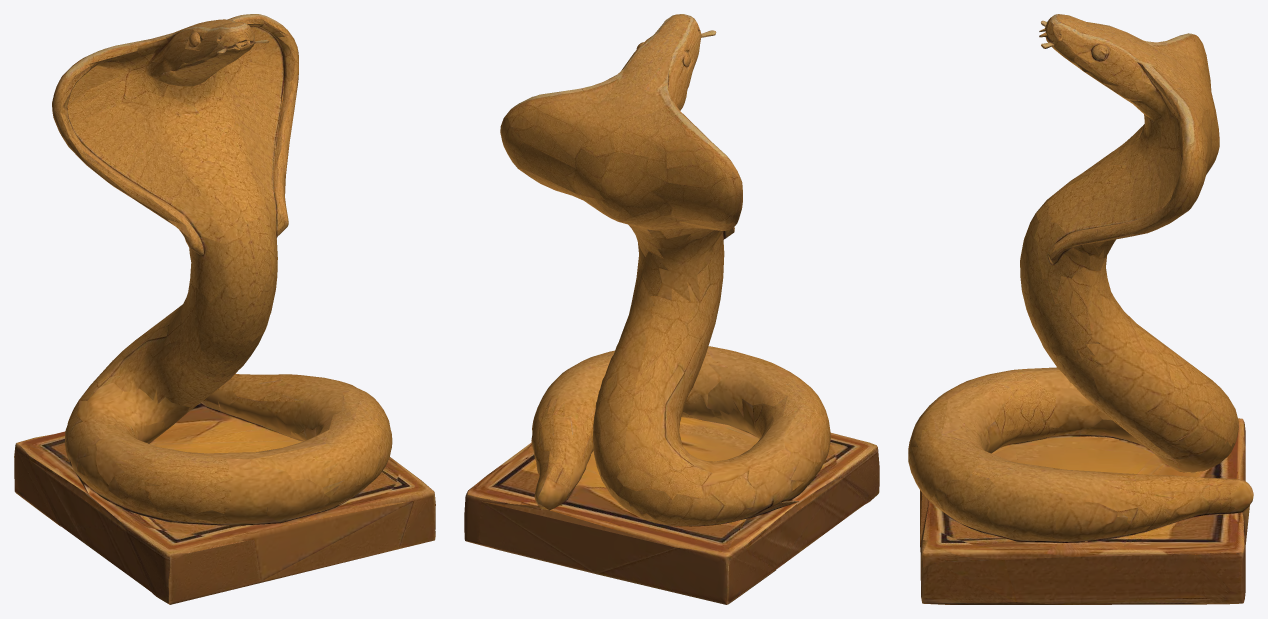
File: cobra.glb
3 views of the same model, side by side, from view 1: azimuth 30°, elevation 25°; view 2: azimuth 150°, elevation 25°; view 3: azimuth 270°, elevation 25° (orthographic). The views are drawn at different scales.
Visible parts, largest first — view 1: mesh_node; view 2: mesh_node; view 3: mesh_node.
Boxes of the visible parts, x1,y1,x2,y2 form: mesh_node: (14,14,435,604); mesh_node: (464,14,879,604); mesh_node: (908,14,1253,604).
Bounding box in the file's own units: 1.08 × 1.9 × 1.14.
Materials: 1 (1 with a texture image).
